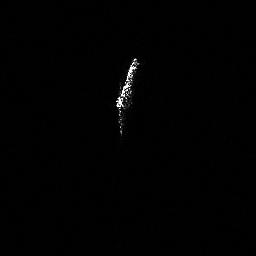ship: (112, 55, 142, 136)
